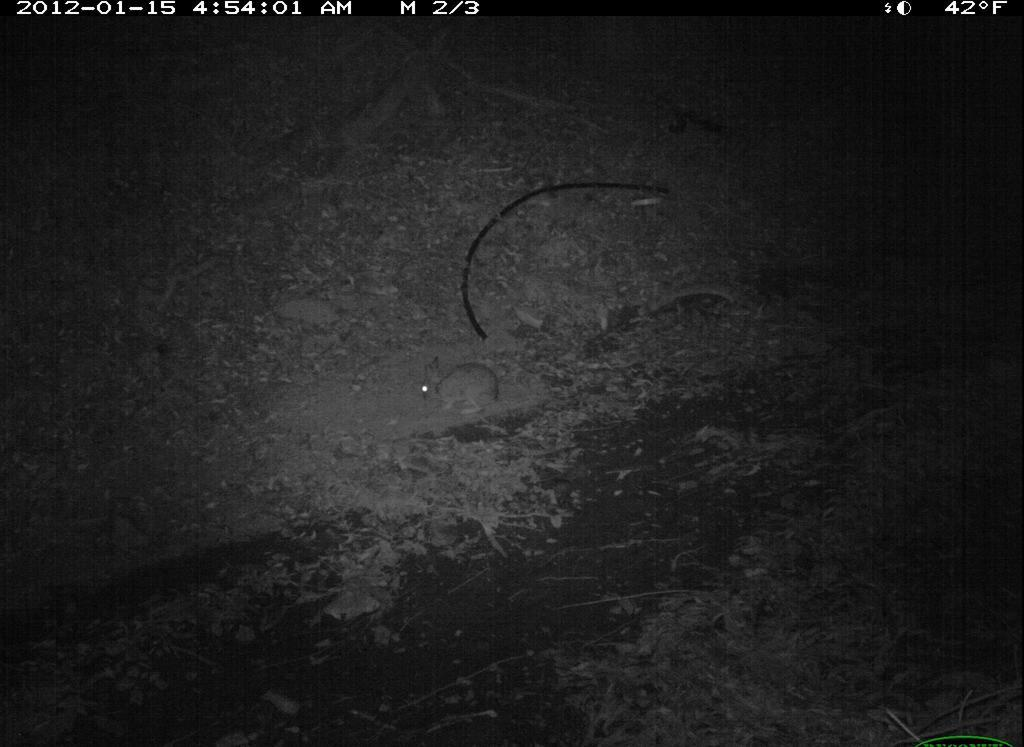rabbit: (410, 347, 505, 419)
